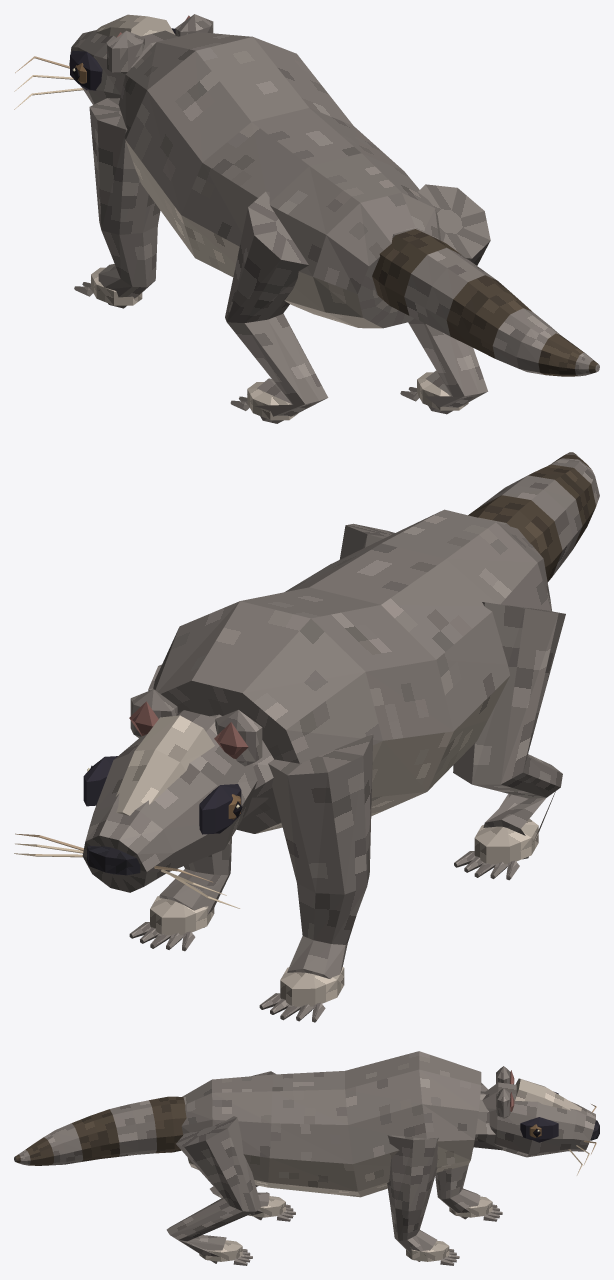
File: mon_raccoon.glb
3 views of the same model, one above another, from view 1: azimuth 30°, elevation 25°; view 2: azimuth 150°, elevation 25°; view 3: azimuth 270°, elevation 25° (orthographic). The views are drawn at different scales.
Parts seen in each view (by area): view 1: closed_body; view 2: closed_body; view 3: closed_body.
Part boxes in pixels (x1,y1,x2,y2): closed_body: (14,14,599,423); closed_body: (14,452,599,1022); closed_body: (14,1051,599,1265).
Size of the model in its own units: 0.2258 by 0.2995 by 0.8769.
Materials: 1 (1 with a texture image).
